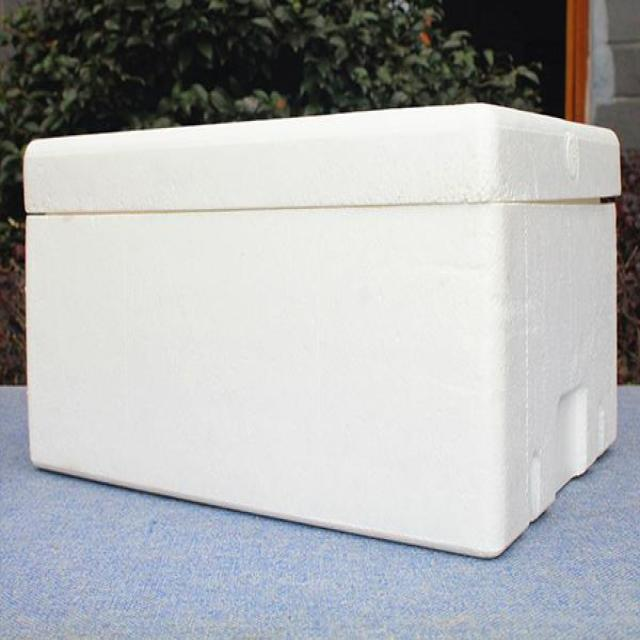styrofoam: (21, 100, 622, 560)
